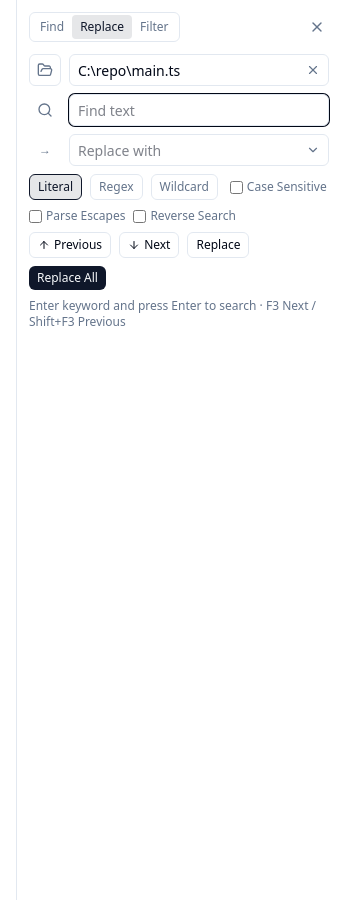
Test: SearchReplacePanel › replaces the replace input with a recent replace-history entry
Type "replace" into the field with placeholder "Replace with" at coordinates (199, 150), box [69,134,329,166]
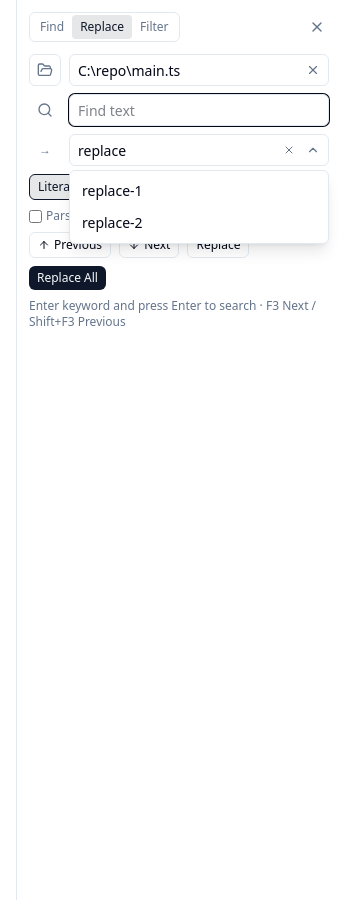
Click the option "replace-2" at coordinates (199, 223), box [74,207,324,239]
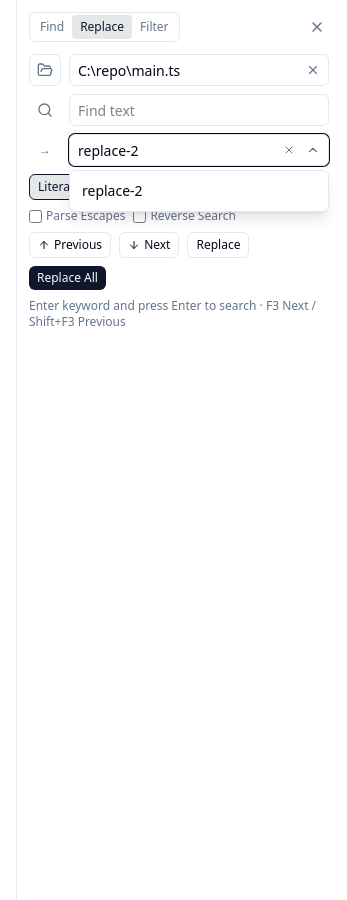
Expected: the field with placeholder "Replace with" holds "replace-2", [69,134,329,166]
